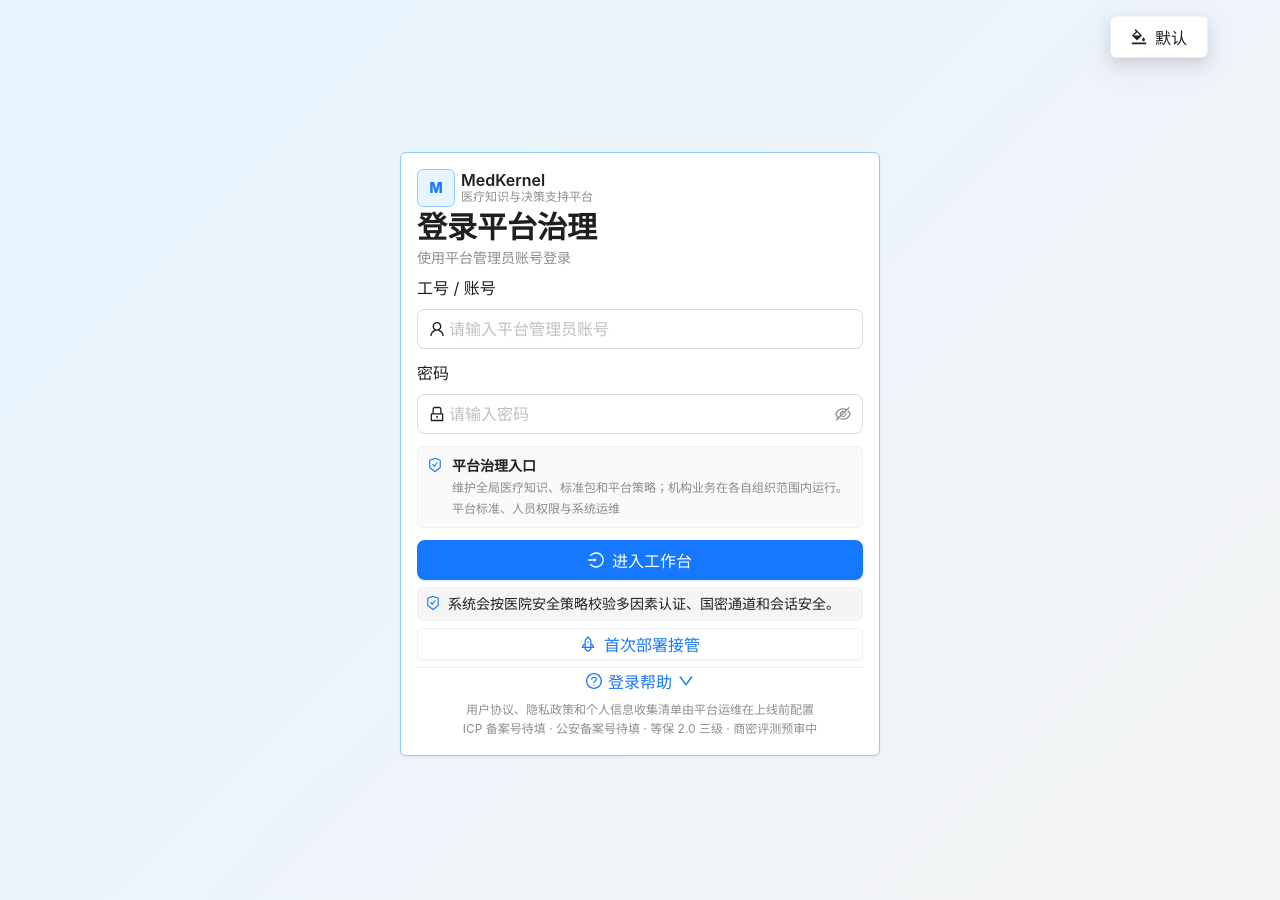
Test: Login › 登录帮助默认收起，避免登录卡片首屏过长
The image size is (1280, 900).
Expected: the text "首次登录" is not shown
Expected: the text "忘记密码" is not shown
What coordinates should you click on to do the following:
click the button "登录帮助"
I would click on:
 (640, 681)
Its box is [585,668,695,694].
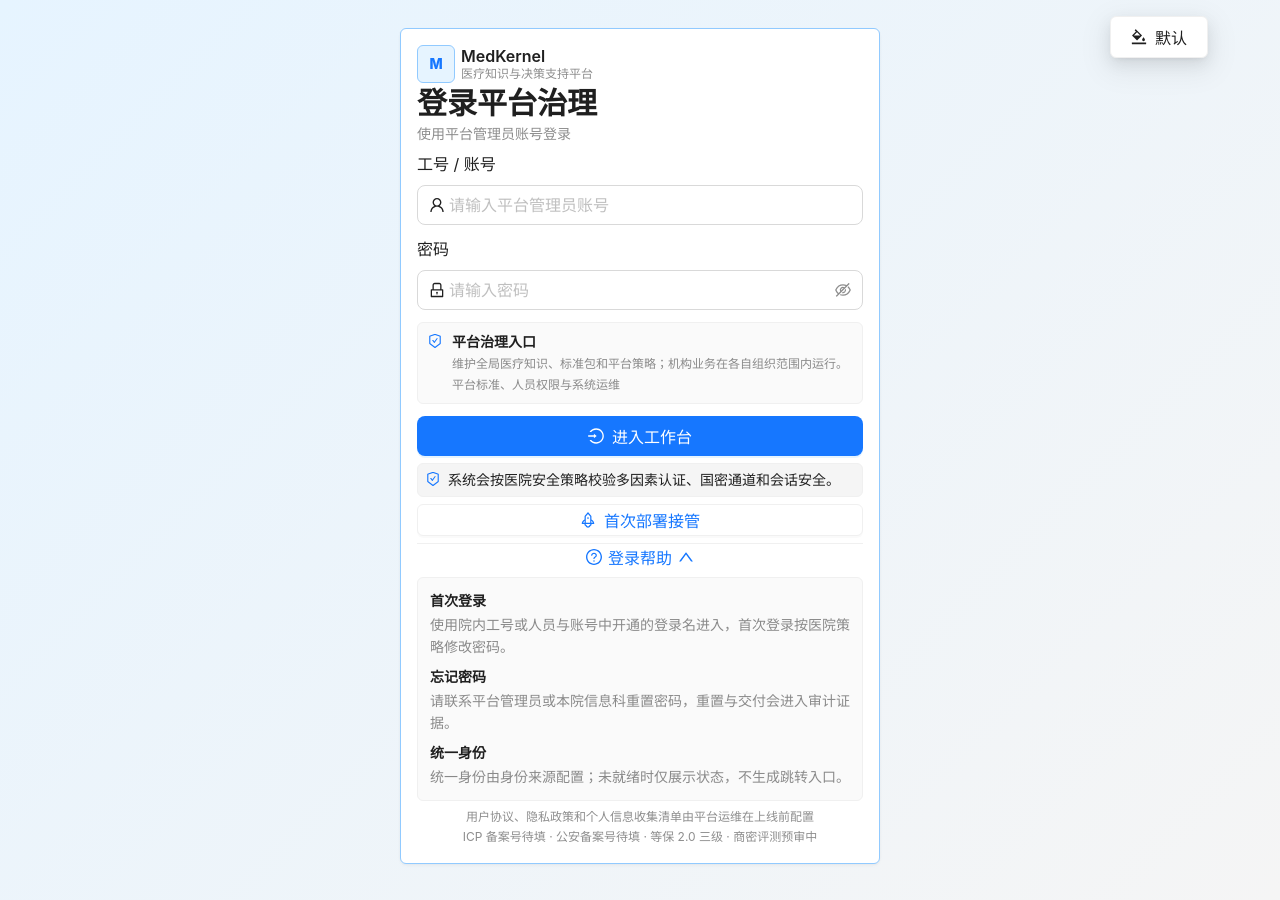
Now the text "首次登录" is shown, box [430,592,486,609]
Now the text "使用院内工号或人员与账号中开通的登录名进入，首次登录按医院策略修改密码。" is shown, box [430,614,850,658]
Now the text "忘记密码" is shown, box [430,668,486,685]
